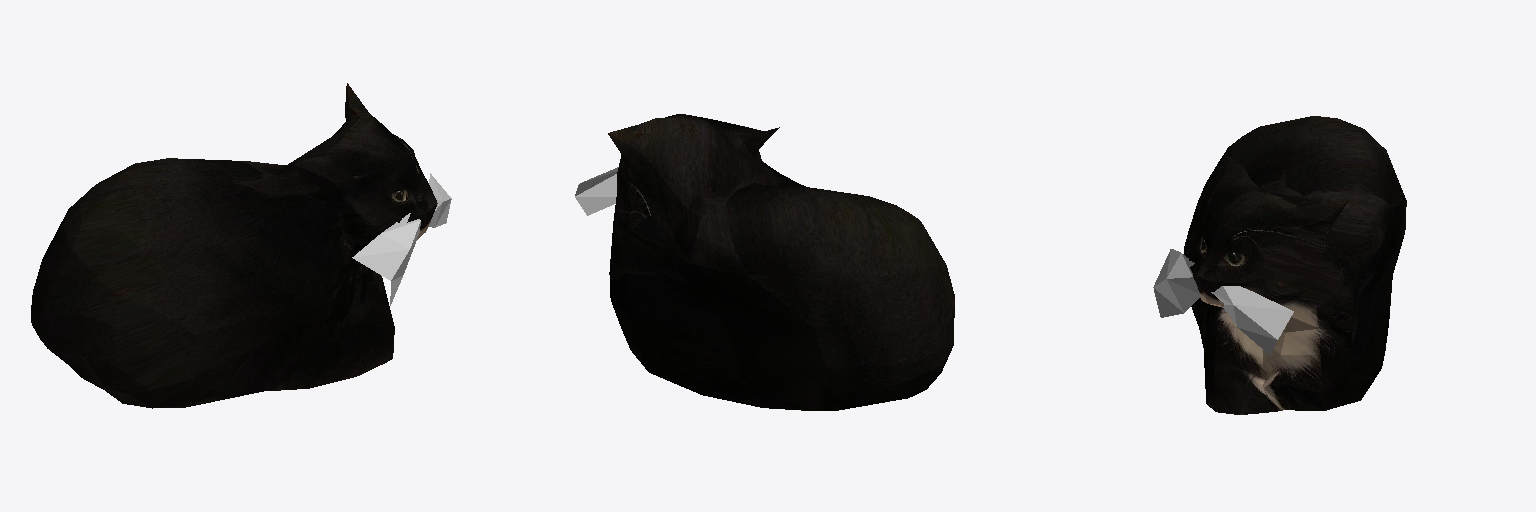
3 renders of one model, left to right at view 1: azimuth 30°, elevation 25°; view 2: azimuth 150°, elevation 25°; view 3: azimuth 270°, elevation 25°, orthographic.
Parts seen in each view (by area): view 1: dingus_dingus_0, dingus_whiskers_0; view 2: dingus_dingus_0, dingus_whiskers_0; view 3: dingus_dingus_0, dingus_whiskers_0.
Boxes of the visible parts, <box> form: dingus_dingus_0: <box>31,83,437,408</box>; dingus_whiskers_0: <box>352,173,451,305</box>; dingus_dingus_0: <box>608,114,954,410</box>; dingus_whiskers_0: <box>575,167,618,215</box>; dingus_dingus_0: <box>1184,116,1406,414</box>; dingus_whiskers_0: <box>1153,249,1293,354</box>.
Size of the model in its own units: 33.23 by 19.21 by 18.75.
2 materials, 1 textured.